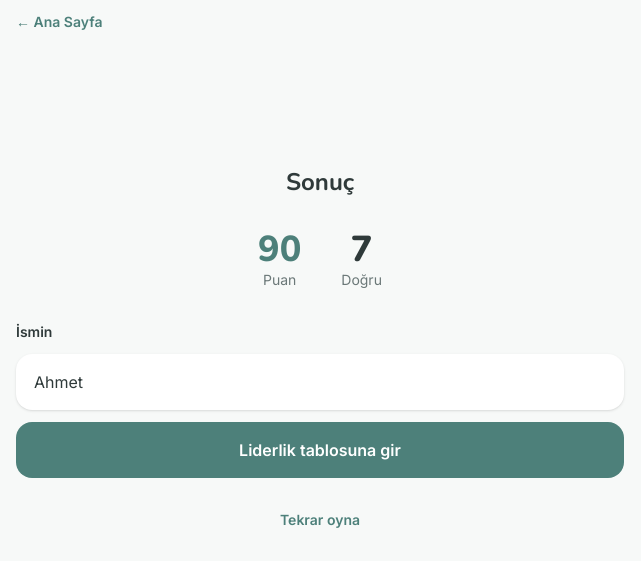
ResultView › shows an error and stays on the page when finish fails
Replace the text in the field labelled "İsmin" with "a" at [320, 382], box [16,354,624,410]
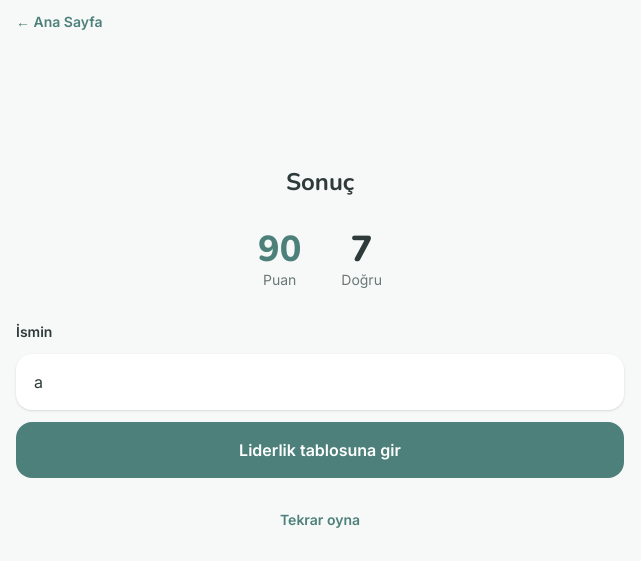
Submit the form, box [16,322,624,478]
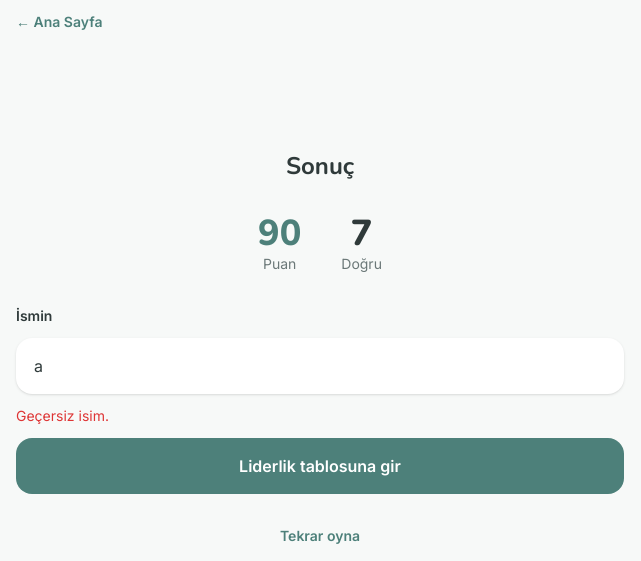
Result: the text "Geçersiz isim." is shown at [16,407,109,424]
